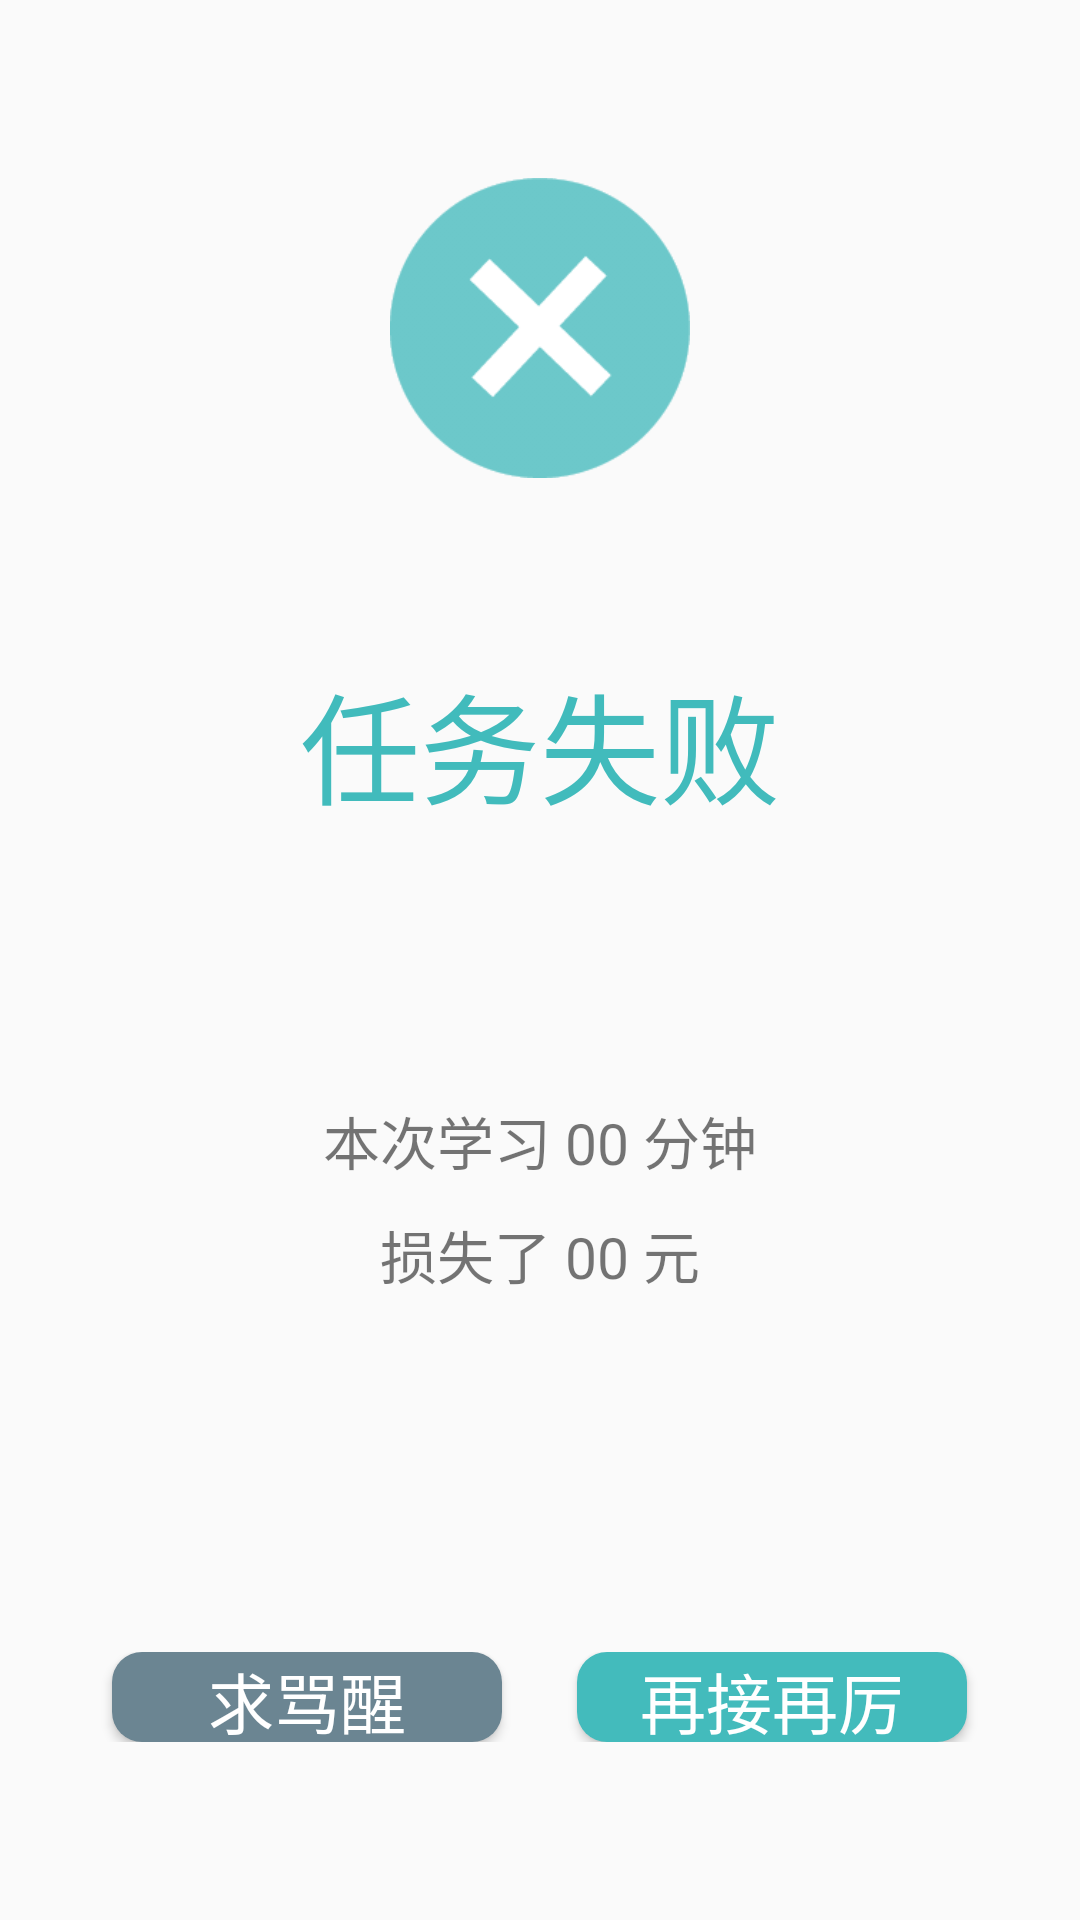

Named icons in this screenshot (1080px x 1920px) and their centers, (x,y):
fail: (540,328)
